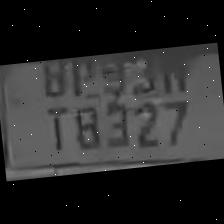2: (128, 96, 163, 150)
3: (98, 97, 132, 152), (124, 50, 158, 96)
7: (156, 92, 192, 148)
8: (66, 99, 102, 151)
9: (96, 55, 128, 98)
P: (63, 56, 99, 96)
T: (40, 102, 74, 154)
U: (36, 58, 68, 100)
